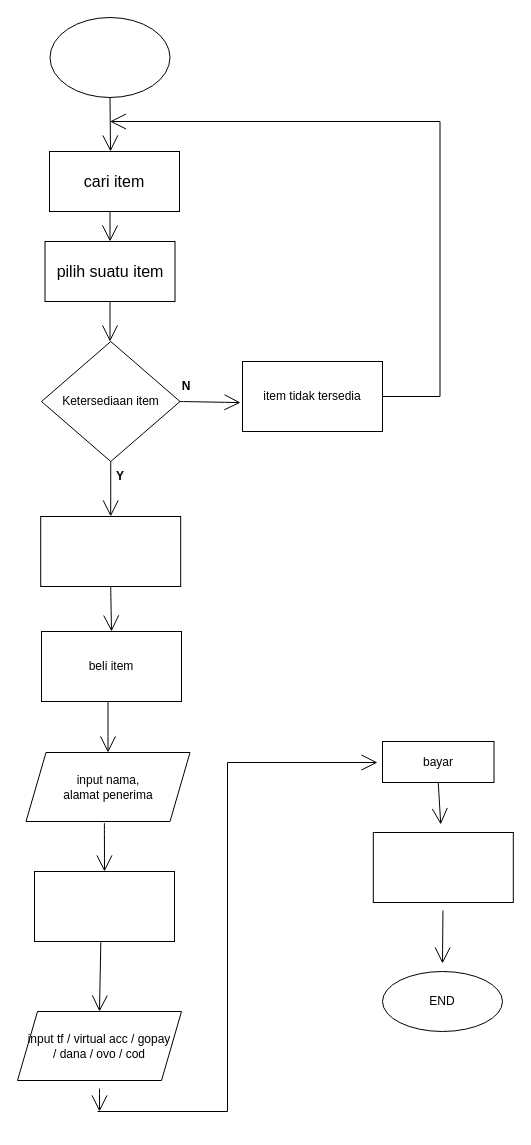
The diagram is 531 pixels wide and 1145 high, and some of its shapes have lost their labels. The centre of each missing label's shape, as x and y in pixels:
item tersedia: the point at 110,551
konfirmasi order: the point at 442,867
pilih metode pembayaran: the point at 104,906
START: the point at 109,57
